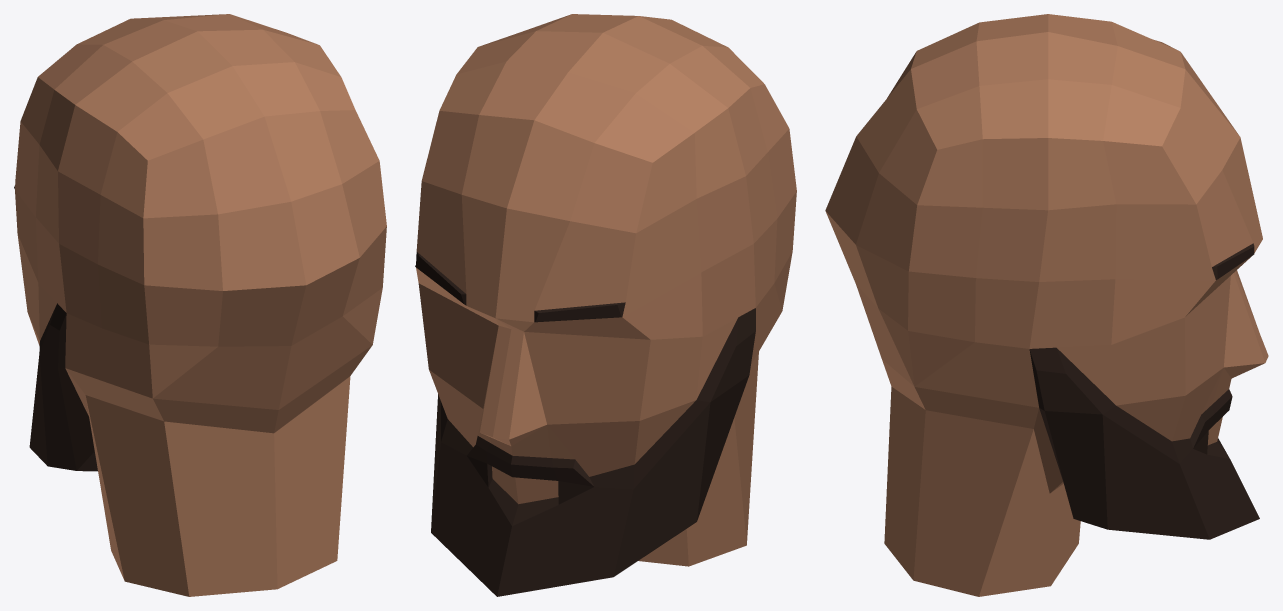
File: low-poly head.fbx
3 renders of one model, left to right at view 1: azimuth 30°, elevation 25°; view 2: azimuth 150°, elevation 25°; view 3: azimuth 270°, elevation 25°, orthographic. The views are drawn at different scales.
Parts seen in each view (by area): view 1: Cube; view 2: Cube; view 3: Cube.
Boxes of the visible parts, x1,y1,x2,y2 form: Cube: (14, 14, 386, 596); Cube: (415, 14, 796, 596); Cube: (825, 14, 1268, 596).
Bounding box in the file's own units: 128 × 213 × 167.
